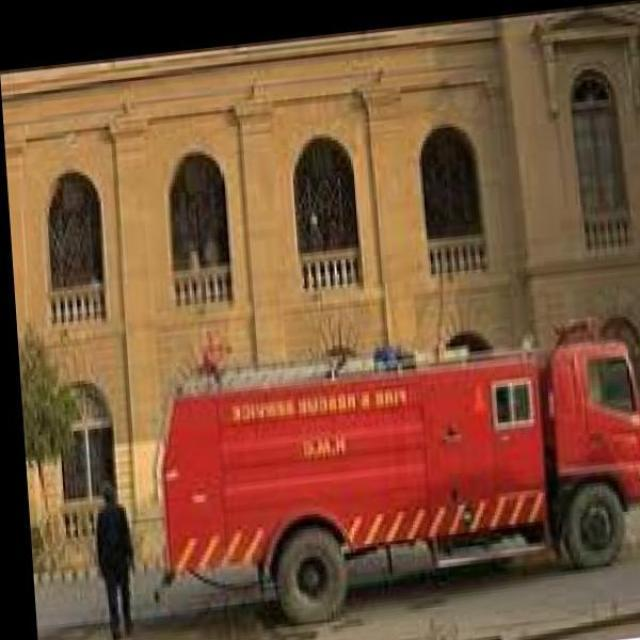emergency: (154, 314, 638, 626)
